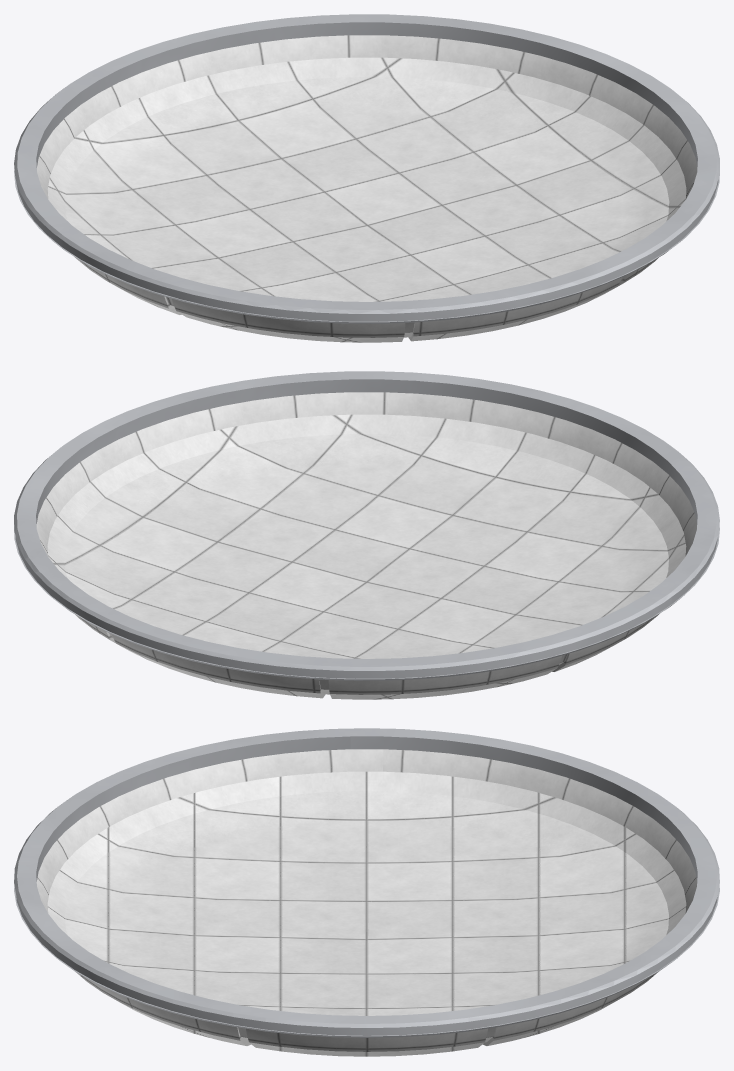
The model's file is ax_cmd_15_heat_shield_s.glb.
The picture shows the model from 3 angles, top to bottom: view 1: azimuth 30°, elevation 25°; view 2: azimuth 150°, elevation 25°; view 3: azimuth 270°, elevation 25°; orthographic projection.
Parts seen in each view (by area): view 1: ablator_dish, carrier_ring; view 2: ablator_dish, carrier_ring; view 3: ablator_dish, carrier_ring.
Part boxes in pixels (x1,y1,x2,y2): ablator_dish: (37,35,697,342); carrier_ring: (14,14,719,323); ablator_dish: (36,392,696,699); carrier_ring: (14,371,719,680); ablator_dish: (36,749,697,1056); carrier_ring: (14,728,719,1037).
Size of the model in its own units: 1.23 by 0.1417 by 1.23.
2 materials, 2 textured.
